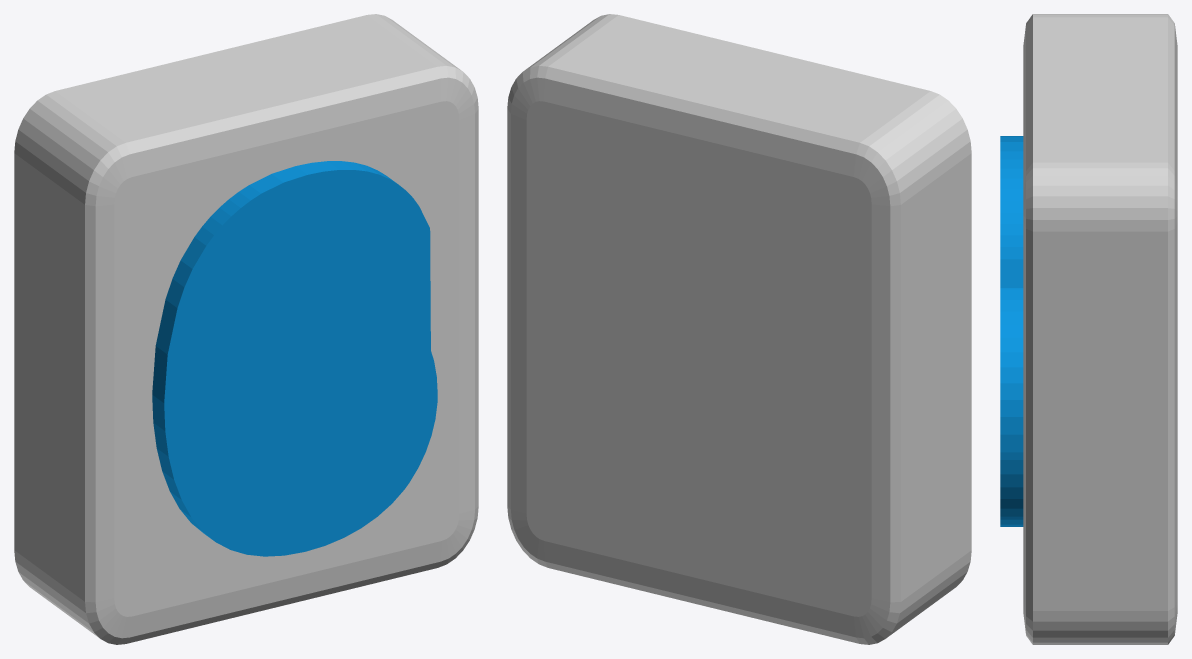
3 views of the same model, side by side, from view 1: azimuth 30°, elevation 25°; view 2: azimuth 150°, elevation 25°; view 3: azimuth 270°, elevation 25° (orthographic). The views are drawn at different scales.
Visible parts, largest first — view 1: Box6; view 2: Box6; view 3: Box6.
Part boxes in pixels (x1,y1,x2,y2): Box6: (14,14,478,644); Box6: (507,14,971,644); Box6: (1000,14,1177,644).
Size of the model in its own units: 56.15 by 68.31 by 22.91.
